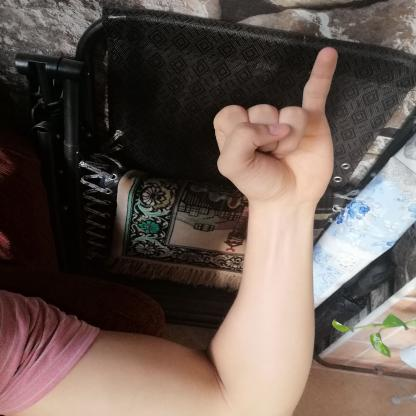MEEM: (196, 37, 355, 213)
